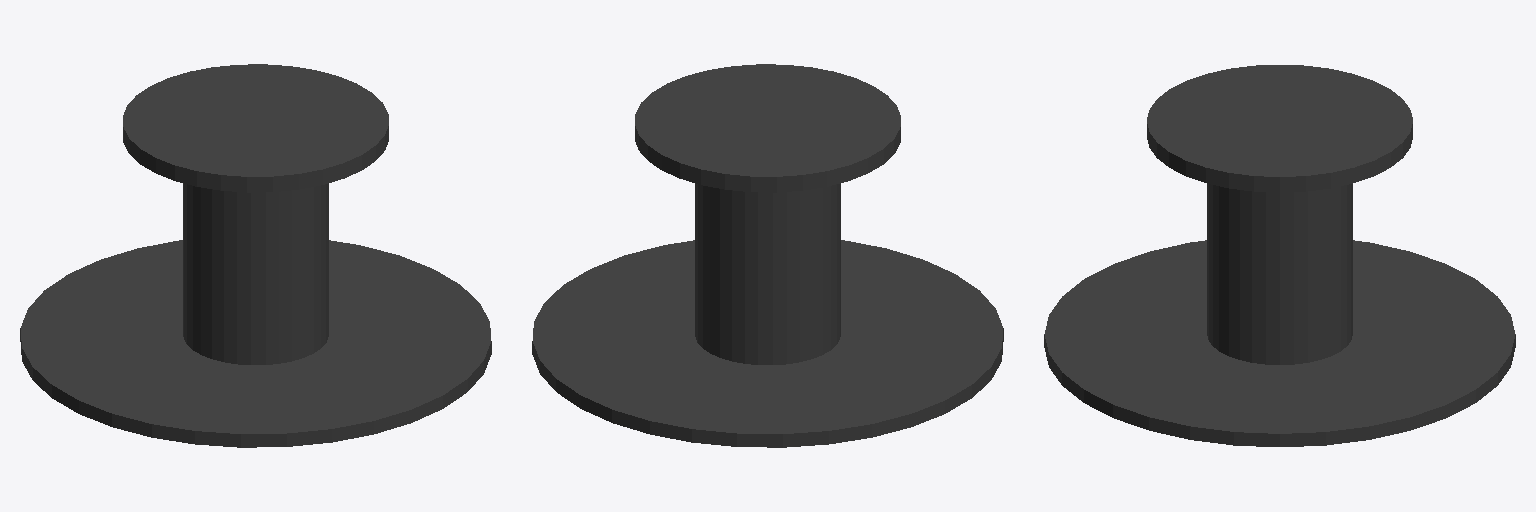
The robot description file, URDF, robot "box":
<?xml version="1.0" ?>
<robot name="box" xmlns:xacro="http://www.ros.org/wiki/xacro">
  <material name="black">
    <color rgba="0.3 0.3 0.3 1"/>
  </material>  
	<link name="base_link">
		<visual>
			<origin rpy="0 0 0" xyz="0 0 0"/>
			<geometry>
        			<mesh filename="meshes/visual/base.stl"/>
			</geometry>
		<material name="black"/>
		</visual>

	</link>
</robot>

--- What the picture shows (computed from the rendered views, not written in the file) ---
Views: 3 orthographic renders of the robot side by side, from view 1: azimuth 30°, elevation 25°; view 2: azimuth 150°, elevation 25°; view 3: azimuth 270°, elevation 25°.
Model box with 1 links and 0 joints (none), rooted at base_link, posed every joint at zero.
Visible links, largest first — view 1: base_link; view 2: base_link; view 3: base_link.
Link boxes in pixels (x1,y1,x2,y2): base_link: (20, 64, 491, 447); base_link: (532, 64, 1003, 447); base_link: (1044, 65, 1515, 446).
Size in the robot's own frame: 0.5238 by 0.5238 by 0.2787 metres.
Meshes: 1 distinct files referenced, 1 mesh visuals loaded (1 binary STL).
